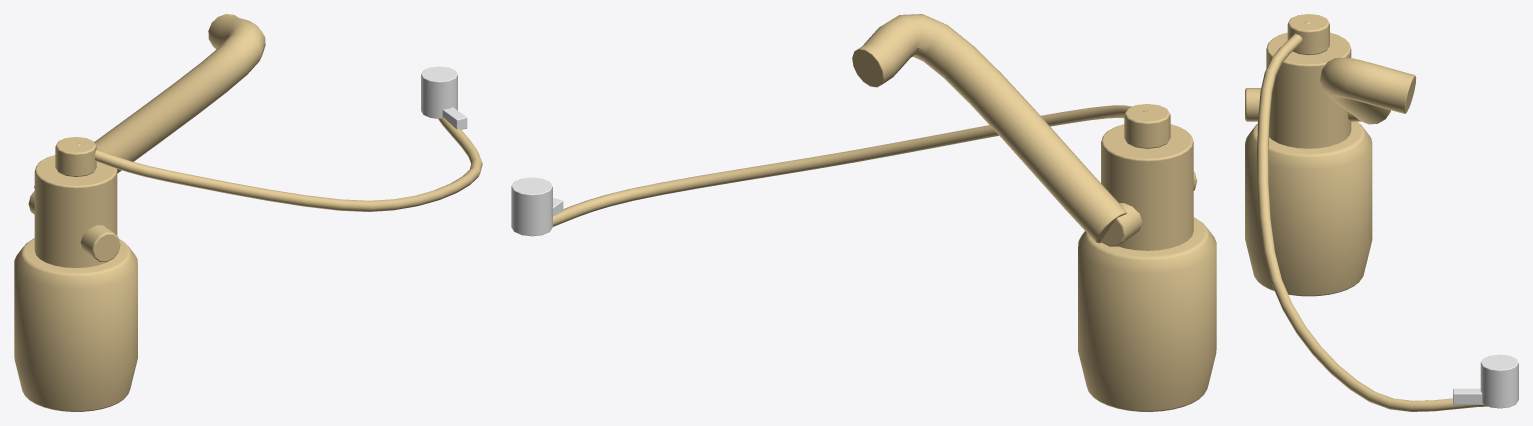
File: bike_pioneer__carb.glb
3 views of the same model, side by side, from view 1: azimuth 30°, elevation 25°; view 2: azimuth 150°, elevation 25°; view 3: azimuth 270°, elevation 25° (orthographic). The views are drawn at different scales.
Parts seen in each view (by area): view 1: powertrain__intake__float_chamber, powertrain__intake__carburettor, powertrain__intake__inlet_pipe, powertrain__fuel_system__fuel_line, powertrain__fuel_system__tap; view 2: powertrain__intake__float_chamber, powertrain__intake__inlet_pipe, powertrain__intake__carburettor, powertrain__fuel_system__fuel_line, powertrain__fuel_system__tap; view 3: powertrain__intake__float_chamber, powertrain__intake__carburettor, powertrain__fuel_system__fuel_line, powertrain__intake__inlet_pipe, powertrain__fuel_system__tap.
Boxes of the visible parts, box(x1,y1,x2,y2) form: powertrain__intake__float_chamber: box(14, 238, 137, 411); powertrain__intake__carburettor: box(28, 137, 120, 267); powertrain__intake__inlet_pipe: box(34, 14, 265, 188); powertrain__fuel_system__fuel_line: box(77, 117, 482, 211); powertrain__fuel_system__tap: box(421, 66, 467, 129); powertrain__intake__float_chamber: box(1078, 217, 1216, 411); powertrain__intake__inlet_pipe: box(852, 14, 1127, 243); powertrain__intake__carburettor: box(1101, 104, 1196, 250); powertrain__fuel_system__fuel_line: box(553, 105, 1149, 226); powertrain__fuel_system__tap: box(511, 177, 563, 236); powertrain__intake__float_chamber: box(1245, 121, 1372, 296); powertrain__intake__carburettor: box(1245, 14, 1361, 148); powertrain__fuel_system__fuel_line: box(1257, 21, 1487, 411); powertrain__intake__inlet_pipe: box(1320, 57, 1416, 124); powertrain__fuel_system__tap: box(1453, 354, 1518, 408).
Bounding box in the file's own units: 29.4 × 16.29 × 12.9.
